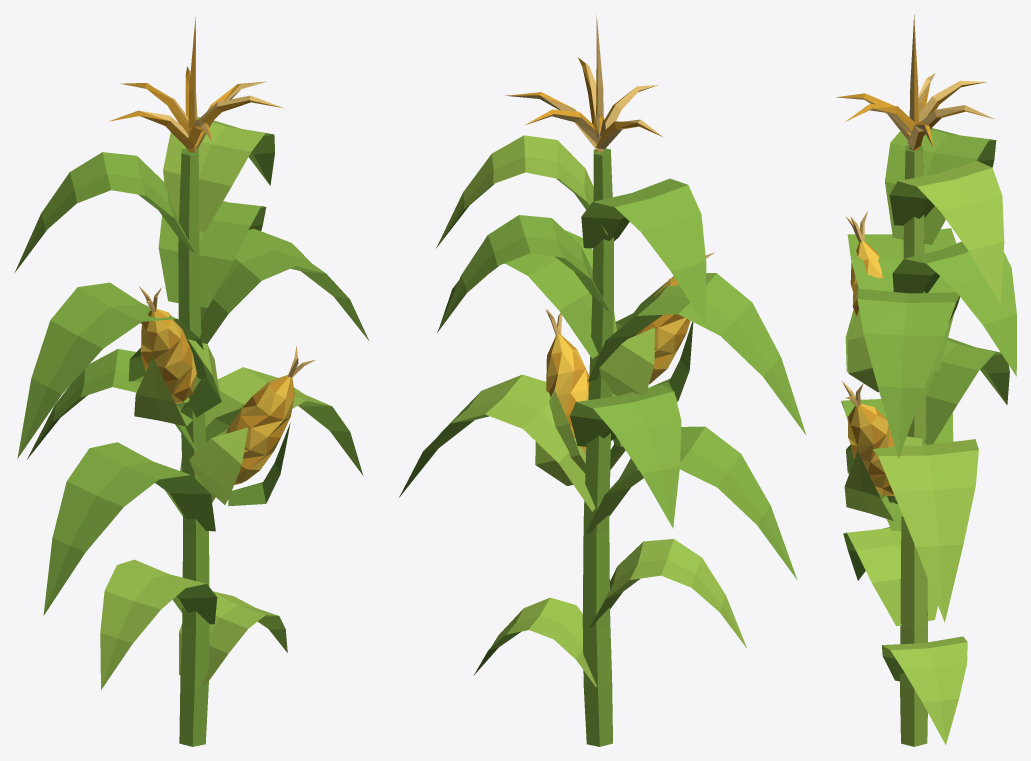
File: FMS_Crop_Corn_S3.fbx
3 renders of one model, left to right at view 1: azimuth 30°, elevation 25°; view 2: azimuth 150°, elevation 25°; view 3: azimuth 270°, elevation 25°, orthographic.
Parts seen in each view (by area): view 1: FMS_Crop_Corn_S3; view 2: FMS_Crop_Corn_S3; view 3: FMS_Crop_Corn_S3.
Part boxes in pixels (x1,y1,x2,y2): FMS_Crop_Corn_S3: [14, 17, 369, 746]; FMS_Crop_Corn_S3: [399, 15, 806, 746]; FMS_Crop_Corn_S3: [836, 15, 1016, 746].
Size of the model in its own units: 1.2 by 2.22 by 0.5019.
